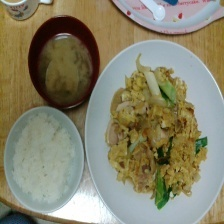rice: (8, 114, 80, 203)
